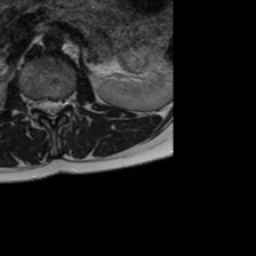CCS_normal: (47, 91, 55, 128)
LFS_normal: (63, 88, 71, 113)
LLS_normal: (55, 89, 64, 120)
RFS_normal: (31, 89, 39, 115)
RLS_normal: (39, 89, 47, 119)
